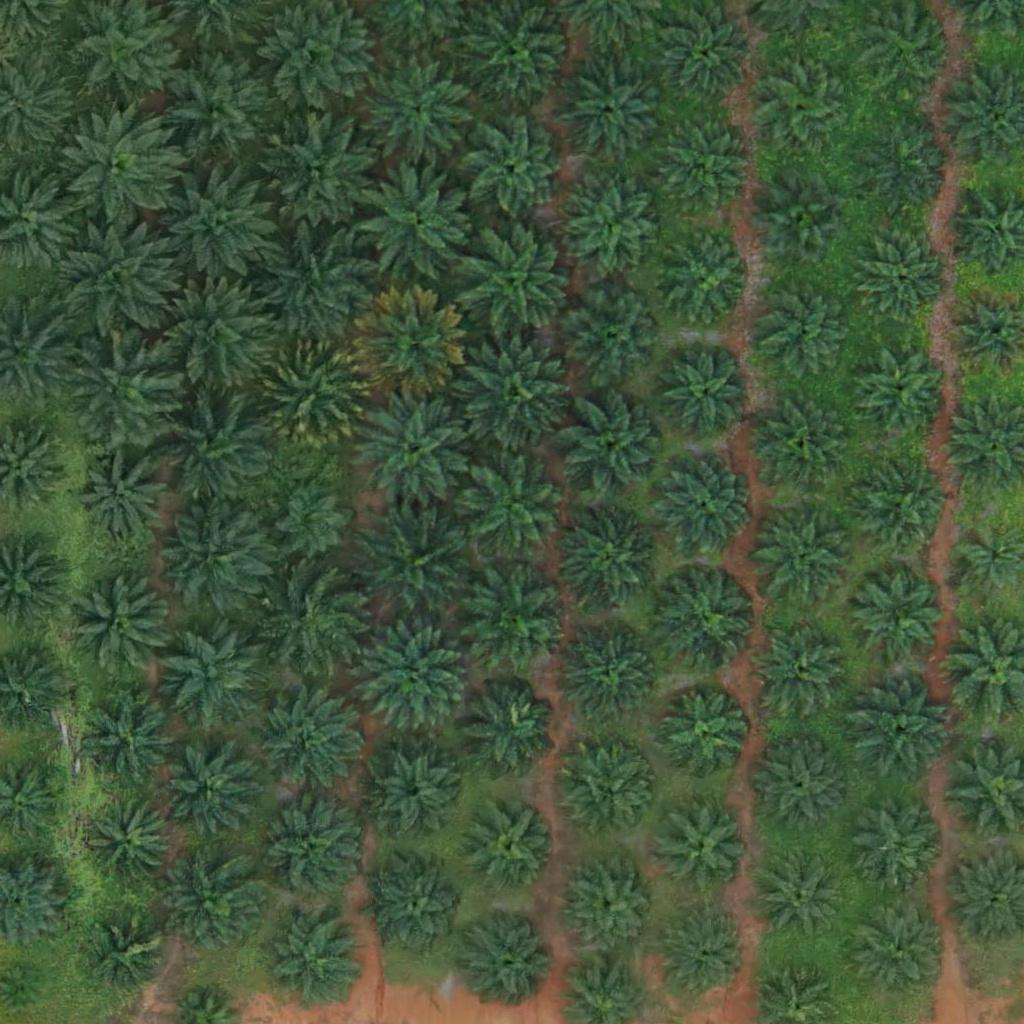Kelapa_Sawit: (356, 627, 469, 741), (163, 55, 276, 168), (266, 109, 379, 222), (265, 227, 378, 340), (557, 54, 670, 167), (458, 455, 571, 568), (354, 288, 467, 401), (256, 337, 369, 450), (356, 389, 469, 502), (353, 507, 466, 620), (63, 224, 175, 338), (157, 394, 269, 508), (161, 497, 273, 611), (66, 330, 178, 444), (62, 114, 174, 227), (165, 166, 277, 279), (363, 60, 475, 173), (360, 166, 472, 279), (464, 224, 576, 337), (457, 337, 569, 450), (154, 281, 266, 394), (464, 120, 564, 221), (656, 115, 756, 216), (851, 342, 951, 443), (852, 458, 952, 559), (850, 682, 950, 783), (757, 278, 857, 379), (754, 395, 854, 496), (753, 504, 853, 605), (752, 621, 852, 722), (750, 737, 850, 838), (653, 455, 753, 556), (658, 568, 758, 669), (563, 286, 663, 387), (561, 395, 661, 496), (559, 511, 659, 612), (561, 621, 661, 722), (469, 565, 569, 666), (160, 626, 260, 727), (69, 575, 169, 676), (77, 687, 177, 788), (164, 854, 264, 955), (258, 799, 358, 900), (263, 909, 363, 1010), (847, 895, 947, 996), (858, 117, 958, 217), (458, 677, 558, 777), (265, 570, 365, 670), (258, 691, 358, 791), (369, 858, 469, 958), (461, 909, 561, 1009), (563, 855, 663, 955), (757, 59, 845, 147), (760, 178, 848, 266), (860, 234, 948, 322), (660, 692, 748, 780), (366, 750, 454, 838), (87, 800, 175, 888), (660, 805, 748, 893), (662, 911, 750, 999), (758, 851, 846, 939), (569, 184, 656, 272), (664, 8, 751, 96), (855, 570, 942, 658), (660, 237, 747, 325), (663, 352, 750, 440), (566, 751, 653, 839), (167, 752, 254, 840), (79, 453, 166, 541), (469, 801, 556, 889), (862, 798, 949, 886), (274, 481, 349, 557), (94, 918, 169, 993), (3, 967, 41, 1005)
